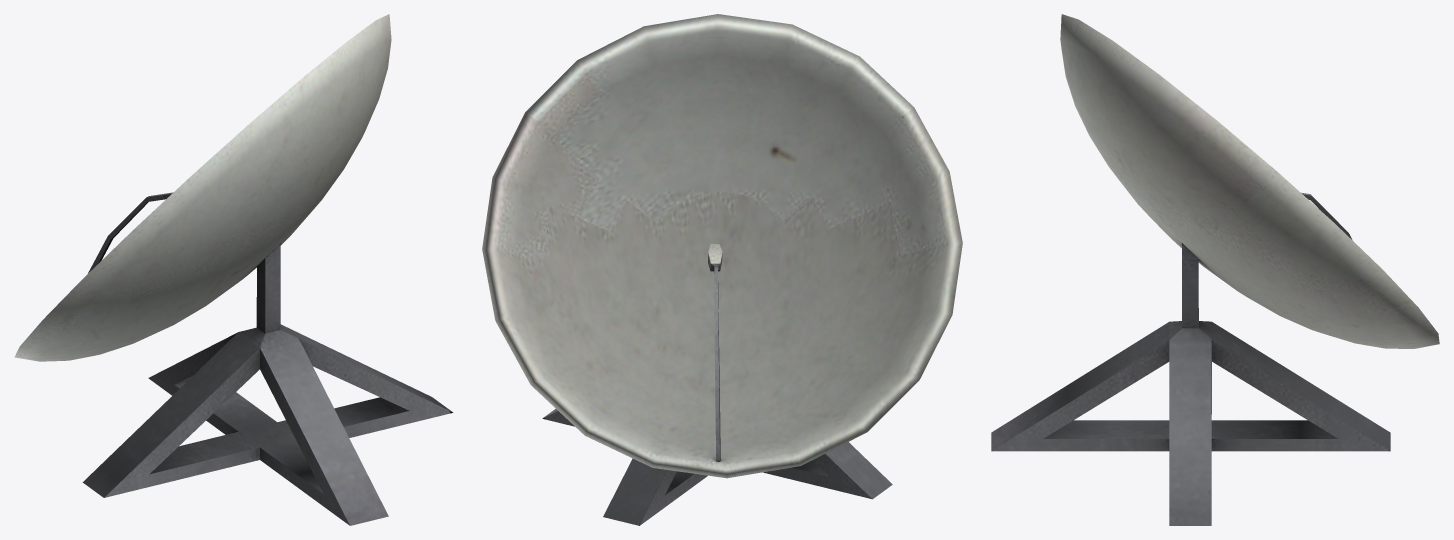
File: satellite.fbx
The picture shows the model from 3 angles, left to right: view 1: azimuth 30°, elevation 25°; view 2: azimuth 150°, elevation 25°; view 3: azimuth 270°, elevation 25°; orthographic projection. The views are drawn at different scales.
Parts seen in each view (by area): view 1: satelliteMesh1; view 2: satelliteMesh1; view 3: satelliteMesh1.
Part boxes in pixels (box(x1,y1,x2,y2)): satelliteMesh1: box(14, 14, 453, 525); satelliteMesh1: box(482, 14, 962, 525); satelliteMesh1: box(991, 14, 1439, 525).
Bounding box in the file's own units: 314 × 309 × 299.
